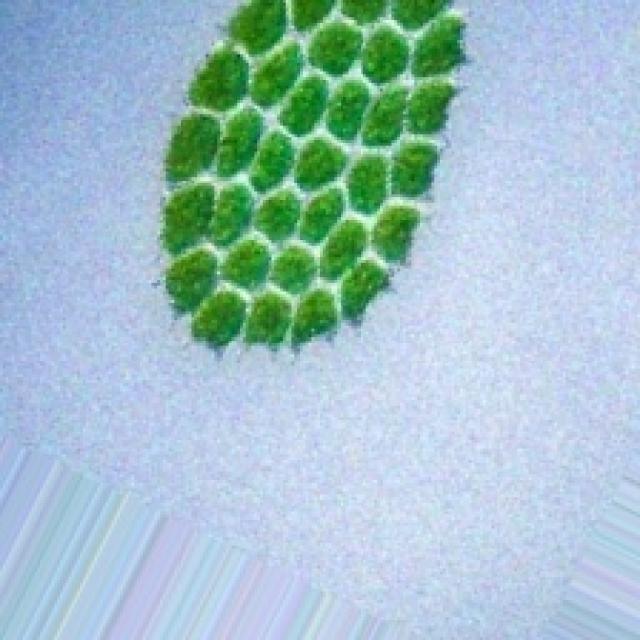Spherical_bacteria: (154, 0, 469, 357)
